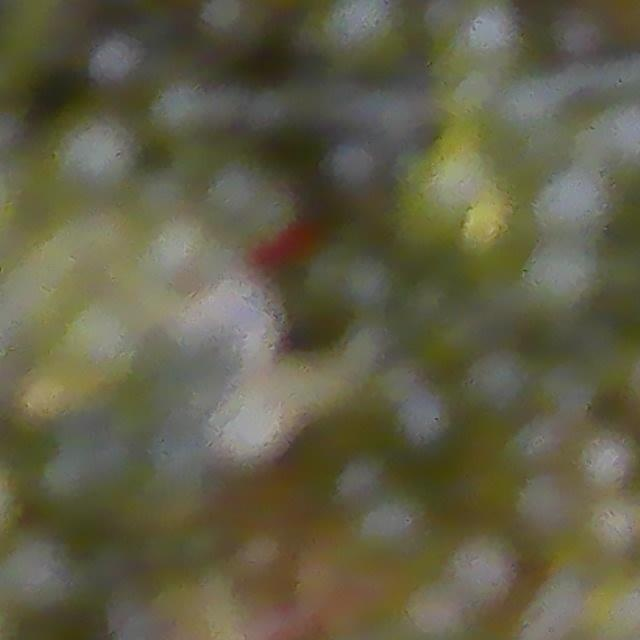SeaGrape: (51, 112, 138, 197), (0, 532, 81, 621), (316, 0, 399, 72), (524, 240, 599, 315), (462, 346, 535, 421), (573, 424, 640, 493), (88, 33, 143, 88)
